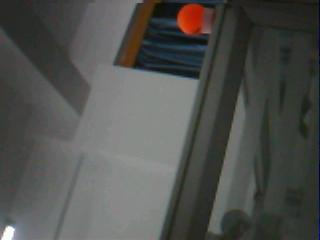oball: (177, 4, 205, 36)
